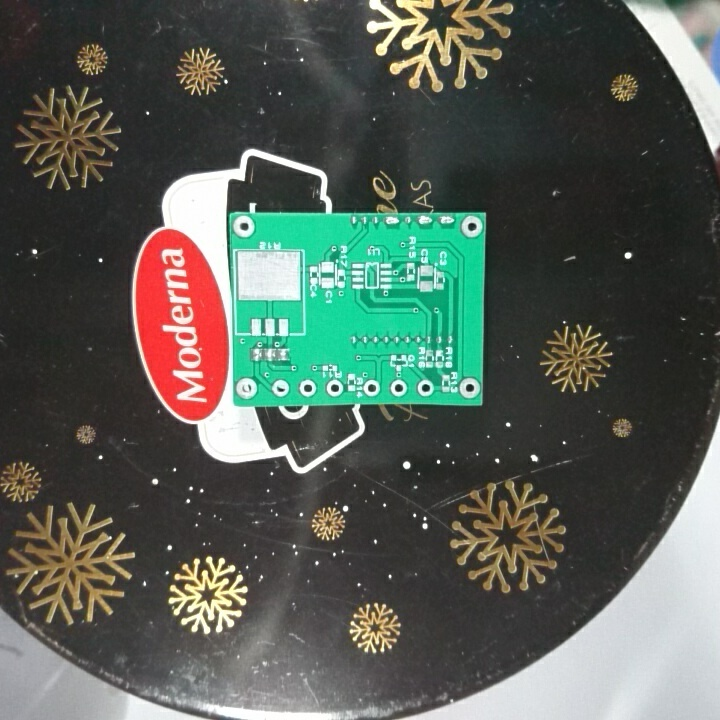F: (234, 375, 259, 400), (232, 214, 257, 238), (460, 214, 483, 240), (457, 375, 480, 400), (415, 377, 436, 399), (388, 377, 409, 398), (271, 376, 291, 398), (361, 378, 382, 398), (325, 378, 345, 398), (297, 378, 317, 398)
P: (382, 213, 402, 229), (437, 214, 457, 230), (415, 214, 434, 229)
